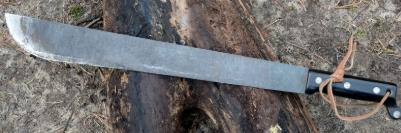MACHETTE: (0, 10, 401, 123)
